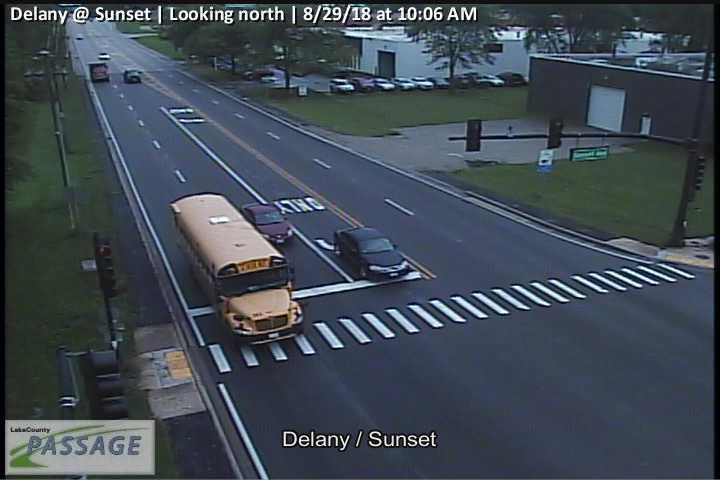Sedan: (333, 223, 410, 280), (238, 200, 293, 244)
Truck: (168, 192, 305, 346)
